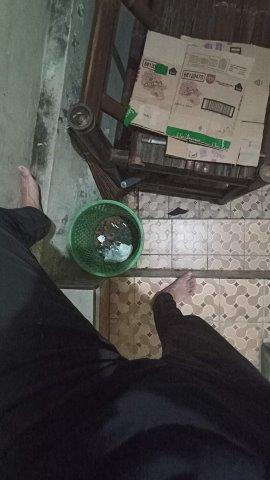kardus: (128, 31, 270, 164)
